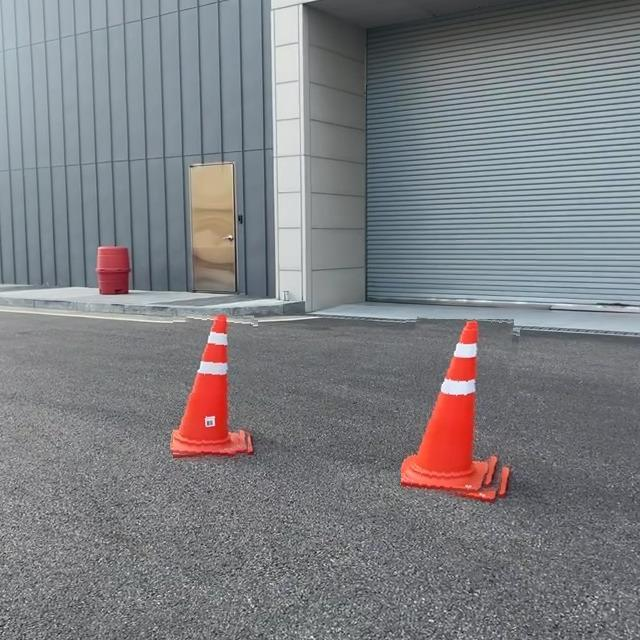fallen_object: (386, 295, 534, 518), (139, 310, 281, 480)
